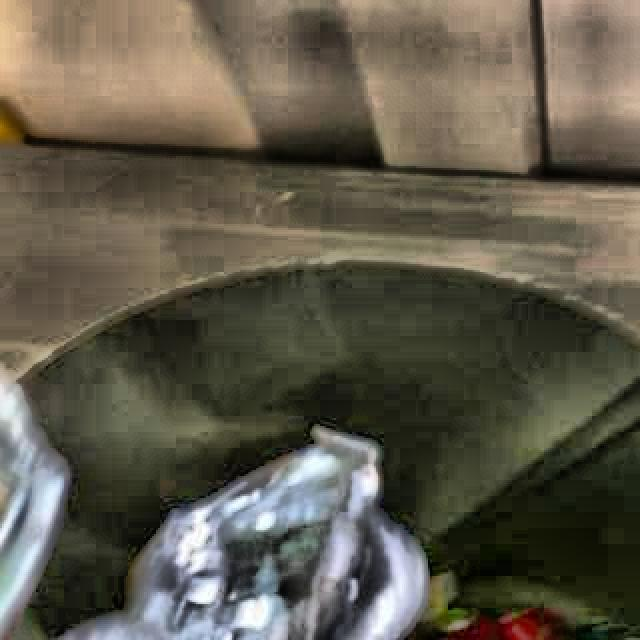metal: (62, 431, 424, 640)
